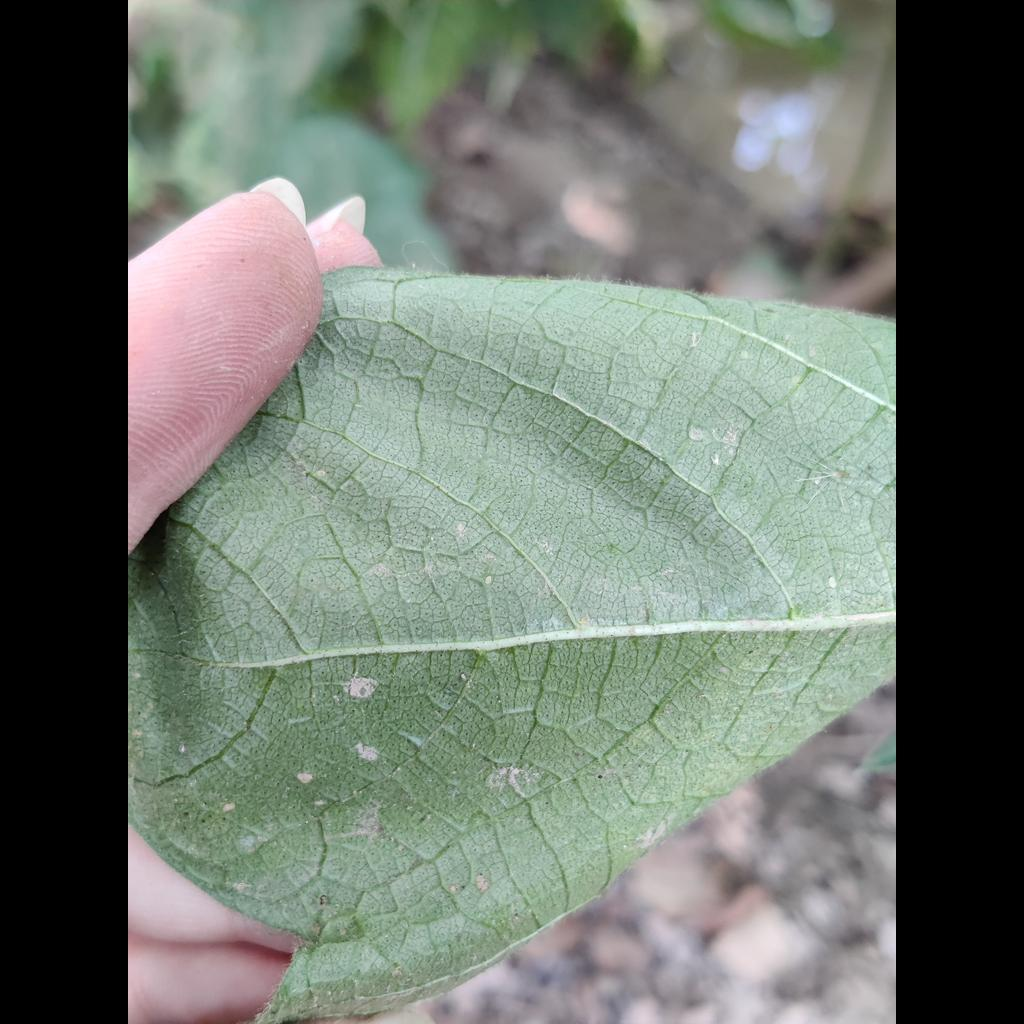nymph: (827, 575, 837, 588), (711, 454, 719, 465), (485, 576, 492, 585), (178, 744, 185, 753), (316, 470, 325, 477), (809, 350, 815, 358), (461, 672, 466, 680), (815, 480, 820, 485)
